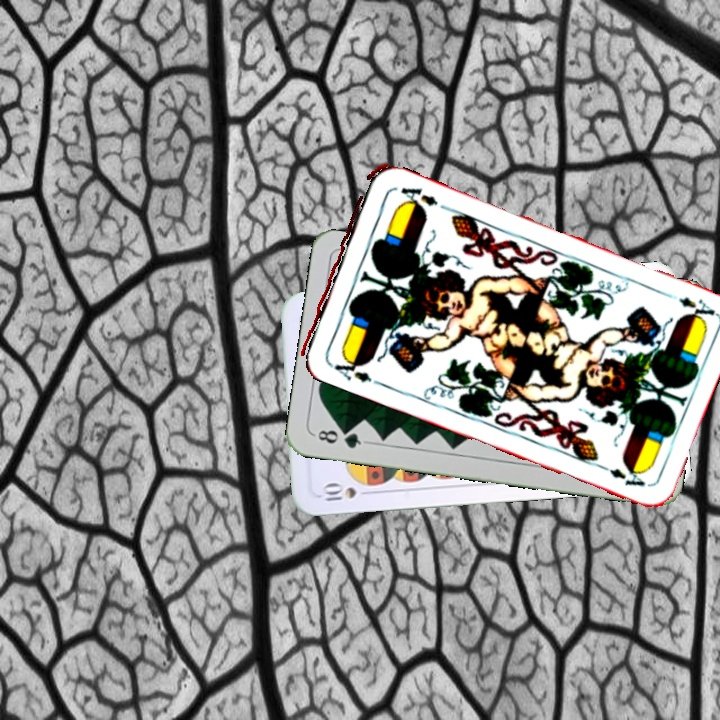EA: (322, 349, 379, 387), (660, 288, 717, 321)
G8: (310, 425, 369, 451)
S10: (319, 480, 376, 504)
